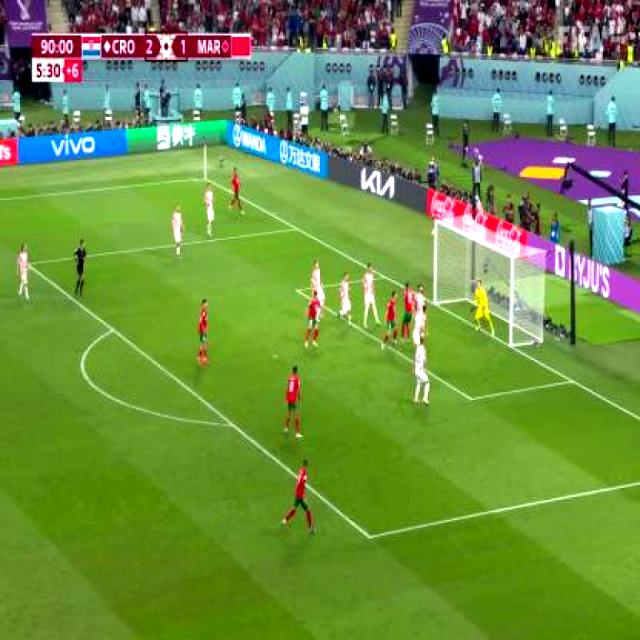bigarea_bottom_inner: (364, 530, 374, 544)
bigarea_top_outter: (290, 220, 302, 237)
bottom_arc_area_intersection: (224, 416, 239, 434)
corner: (196, 175, 214, 185)
smallarea_bottom_inner: (464, 389, 479, 411)
smallarea_bottom_outter: (566, 374, 577, 388)
smallarea_top_inner: (294, 284, 303, 298)
smallarea_top_outter: (380, 270, 390, 285)
top_arc_area_intersection: (108, 323, 120, 337)
